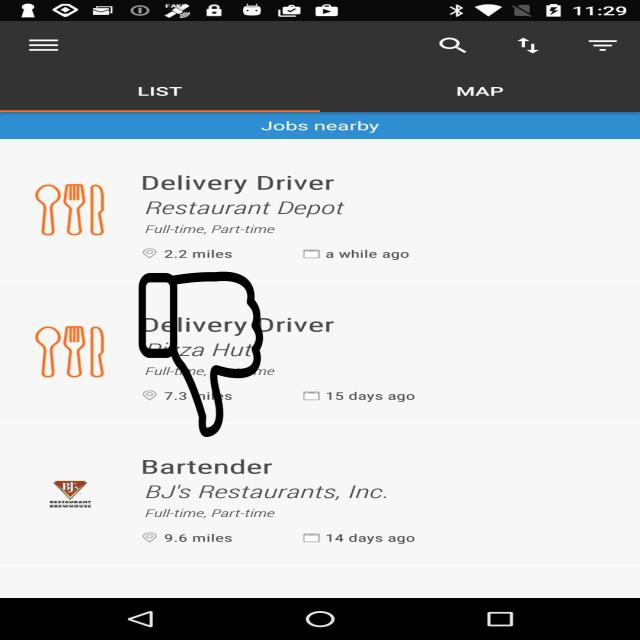obstruction: (137, 272, 265, 437)
